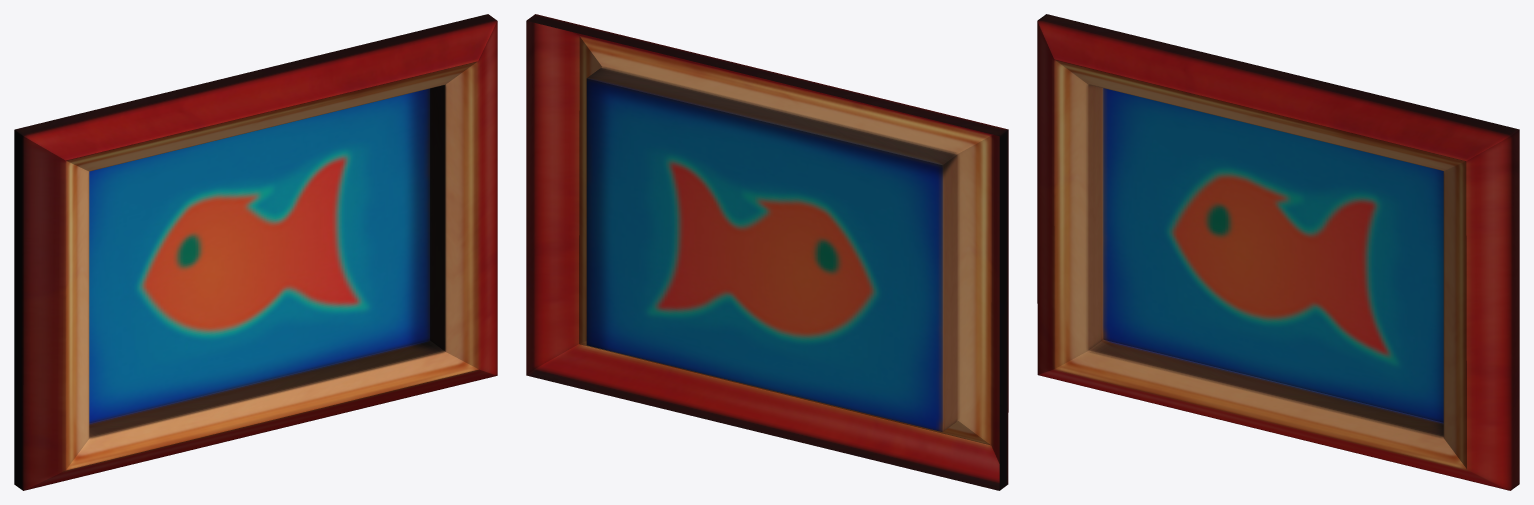
Rendered from videoframe2.dae.
3 views of the same model, side by side, from view 1: azimuth 30°, elevation 25°; view 2: azimuth 150°, elevation 25°; view 3: azimuth 330°, elevation 25° (orthographic).
Visible parts, largest first — view 1: Frame2, Image2; view 2: Image2, Frame2; view 3: Frame2, Image2.
Part boxes in pixels (x1,y1,x2,y2): Frame2: [14, 14, 497, 490]; Image2: [89, 88, 429, 423]; Image2: [586, 78, 942, 431]; Frame2: [526, 14, 1008, 490]; Frame2: [1037, 14, 1519, 490]; Image2: [1103, 88, 1443, 422].
Bounding box in the file's own units: 2.84 × 2.04 × 0.2258.
1 material, 1 textured.
